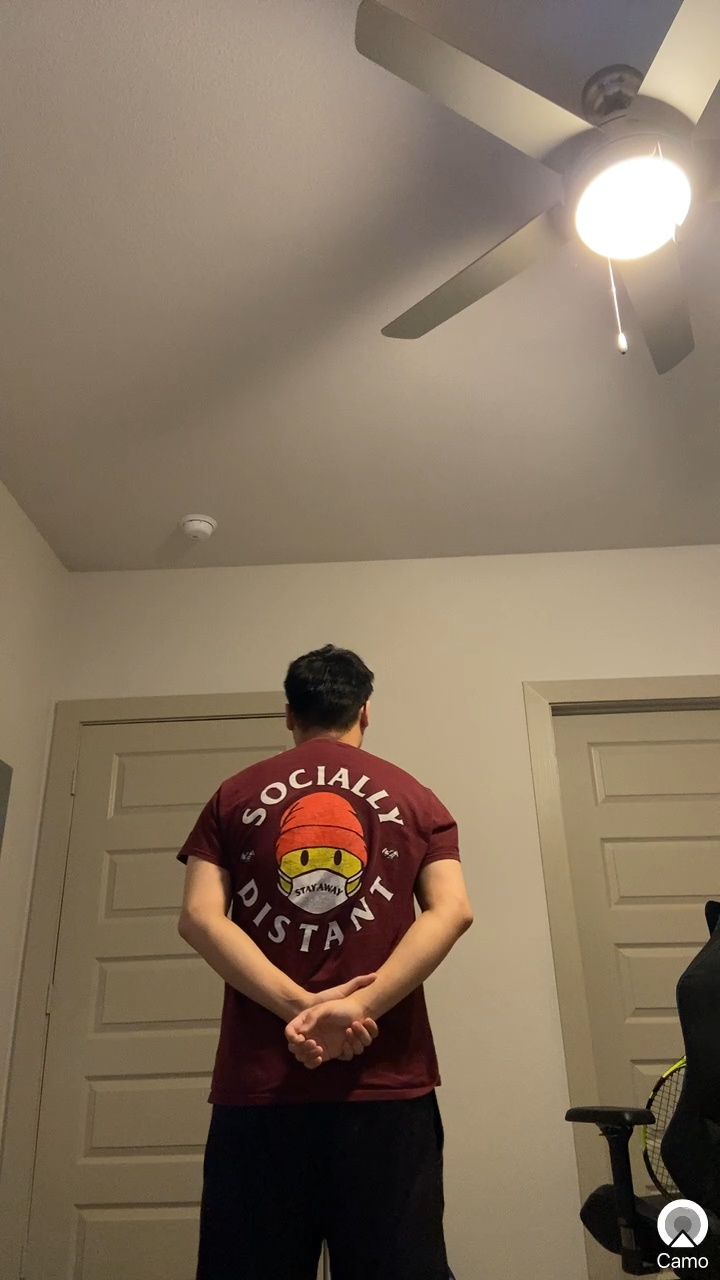Person: (136, 651, 500, 1280)
